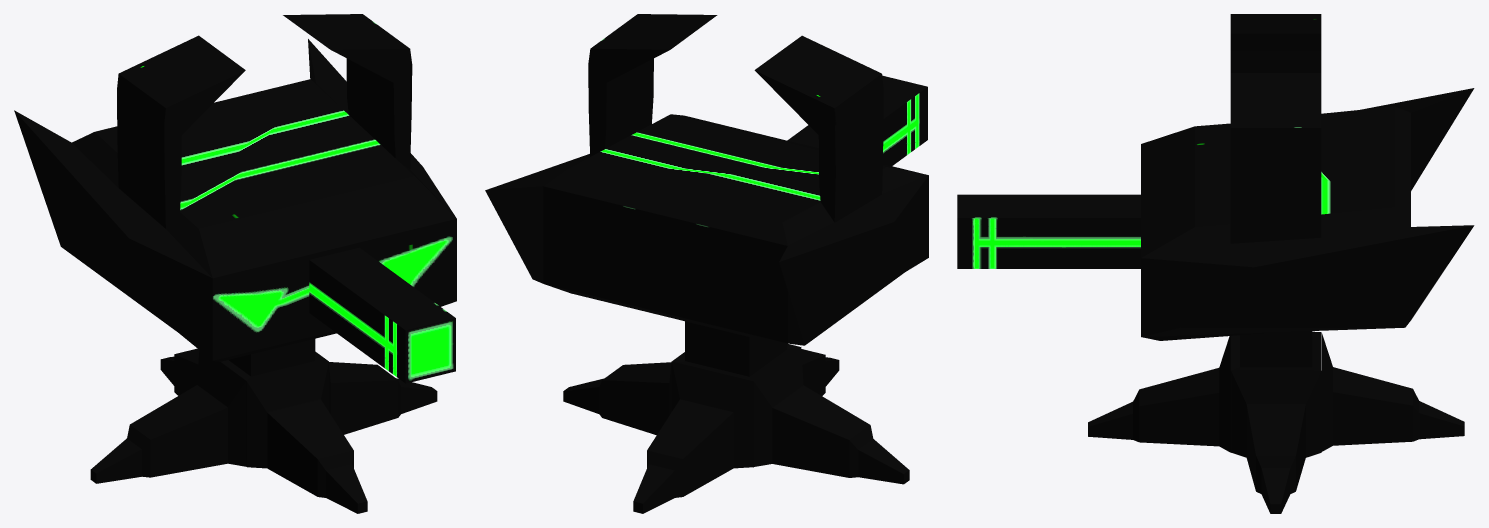
The model's file is Turret2.fbx.
3 renders of one model, left to right at view 1: azimuth 30°, elevation 25°; view 2: azimuth 150°, elevation 25°; view 3: azimuth 270°, elevation 25°, orthographic. The views are drawn at different scales.
Visible parts, largest first — view 1: Cube; view 2: Cube; view 3: Cube.
Part boxes in pixels (x1=…): Cube: x1=14, y1=14, x2=456, y2=513; Cube: x1=485, y1=14, x2=928, y2=513; Cube: x1=957, y1=14, x2=1474, y2=513.
Bounding box in the file's own units: 831 × 928 × 1142.
Materials: 1 (1 with a texture image).
